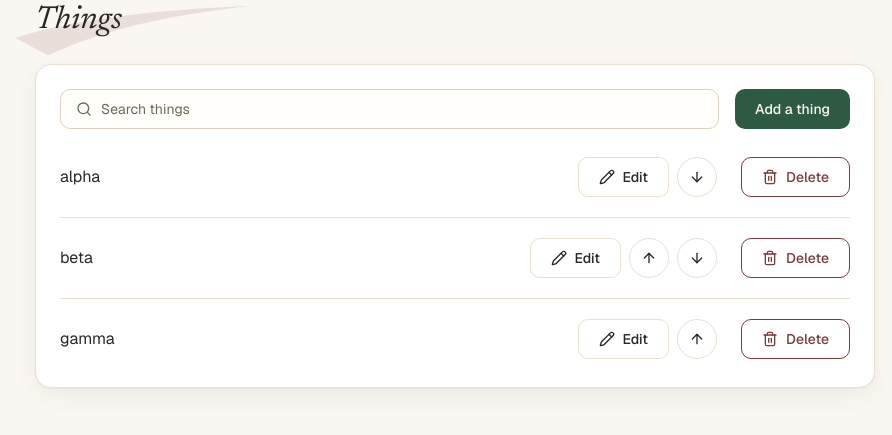
Scenario: ItemList › search › hides the move controls while a filter is active
The image size is (892, 435).
Type "a" into the search field labelled "Search things".
click(390, 109); type("a")  # box [60,89,719,129]
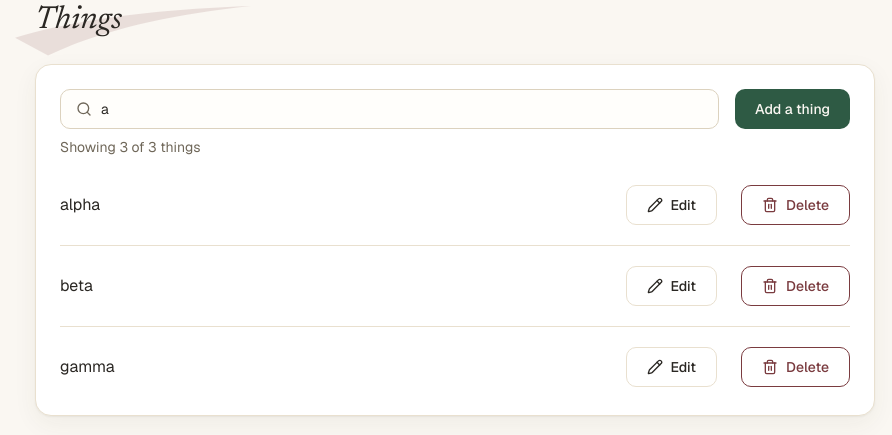
Clear the search field named "Search things" at (390, 109), box [60,89,719,129]
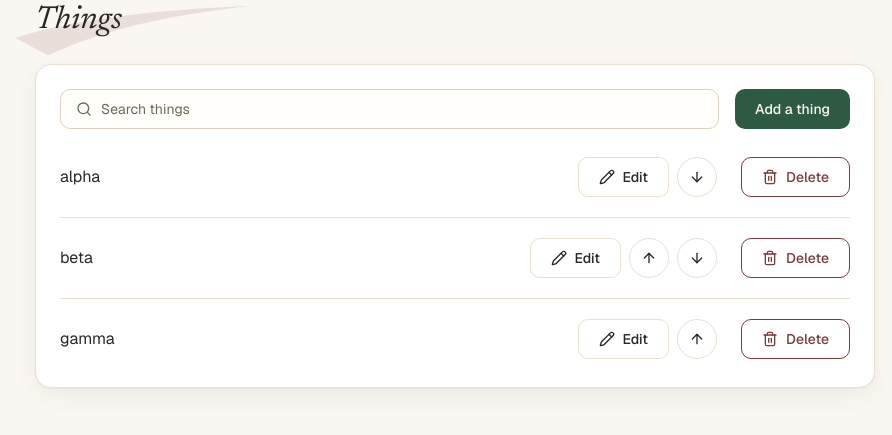
Check: the number of buttons named "Move up" is 2, box [629,238,669,278]; [677,319,717,359]
